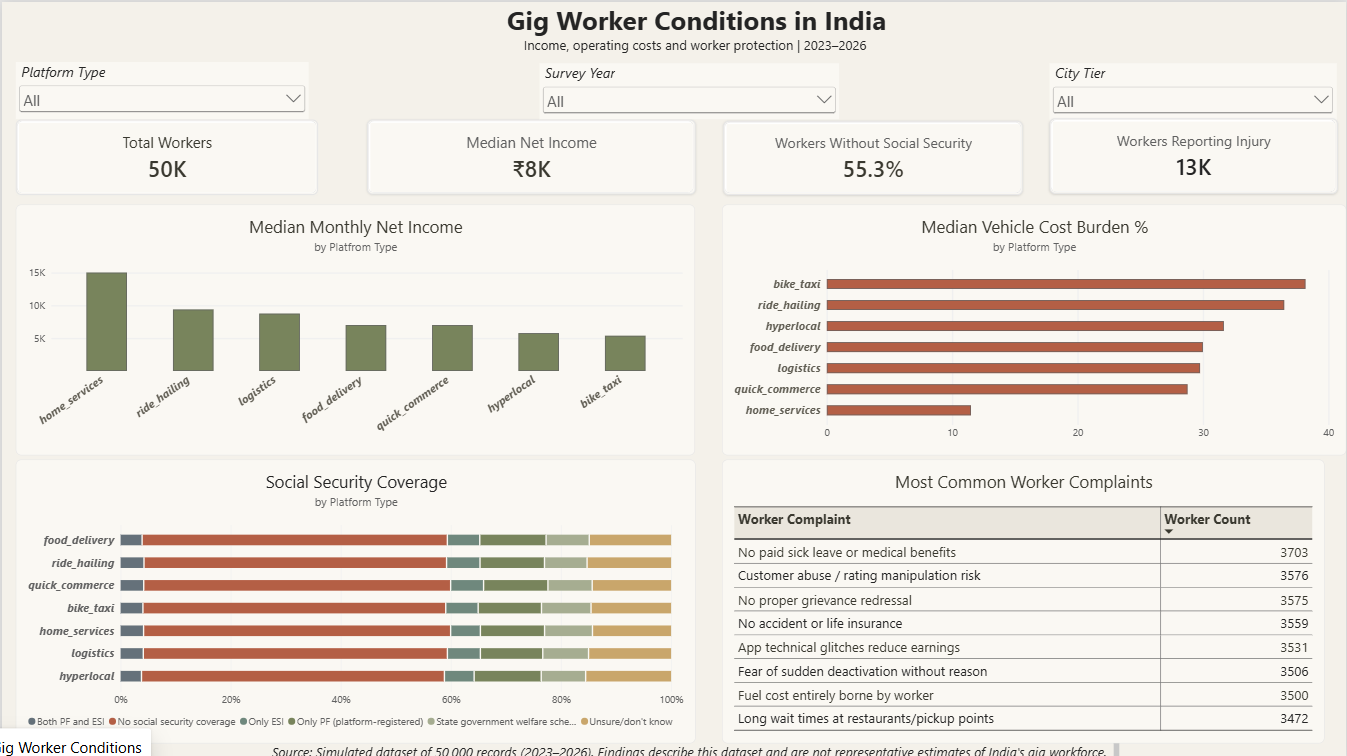

This screenshot's page, from the dashboard's own definition file:
{"tool":"powerbi","page":{"name":"Gig Worker Conditions","canvas":[1920,1080],"ordinal":0},"visuals":[{"type":"textbox","box":[642,0,698.8,71.5],"z":0},{"type":"textbox","box":[641.7,48.3,698.3,46.7],"z":1000},{"type":"cardVisual","fields":{"Data":["cleaned_gig_workers.Total Workers"]},"box":[20,168,432,108],"z":2000},{"type":"cardVisual","fields":{"Data":["cleaned_gig_workers.Median Net Income"]},"box":[521.4,167.9,469.6,107.1],"z":3000},{"type":"cardVisual","fields":{"Data":["cleaned_gig_workers.Workers Without Social Security"]},"box":[1030.4,169.6,428.3,106.7],"z":4000},{"type":"clusteredColumnChart","title":"Median Monthly Net Income","fields":{"Category":["cleaned_gig_workers.platform_type"],"Y":["Median(cleaned_gig_workers.monthly_net_income_inr)"]},"box":[20,290,970,358],"z":5000},{"type":"clusteredBarChart","title":"Median Vehicle Cost Burden % ","fields":{"Category":["cleaned_gig_workers.platform_type"],"Y":["cleaned_gig_workers.Median Vehicle Cost Burden %"]},"box":[1028,290,891.7,358.3],"z":6000},{"type":"tableEx","title":"Most Common Worker Complaints","fields":{"Values":["cleaned_gig_workers.primary_complaint","CountNonNull(cleaned_gig_workers.worker_id)"]},"box":[1028.6,653.6,860.7,405.4],"z":7000},{"type":"slicer","fields":{"Values":["cleaned_gig_workers.platform_type"]},"box":[20,85,418.3,81.7],"z":8000},{"type":"slicer","fields":{"Values":["cleaned_gig_workers.survey_year"]},"box":[768.3,86.7,428.3,80],"z":9000},{"type":"slicer","title":"City Tier","fields":{"Values":["cleaned_gig_workers.city_tier"]},"box":[1496.7,86.7,410,81.7],"z":10000},{"type":"cardVisual","fields":{"Data":["cleaned_gig_workers.Workers Reporting Injury"]},"box":[1496.7,166.7,411.7,108.3],"z":11000},{"type":"hundredPercentStackedBarChart","title":"Social Security Coverage ","fields":{"Category":["cleaned_gig_workers.platform_type"],"Series":["cleaned_gig_workers.social_security_coverage"],"Y":["CountNonNull(cleaned_gig_workers.worker_id)"]},"box":[19.6,653.6,971.4,405.4],"z":11001},{"type":"textbox","box":[385.7,1058.9,1210.7,21.4],"z":11002}]}

Visuals, with their boxes on the page's 1920x1080 design canvas (x1, y1, x2, y2). These are canvas units, not pixel positions in the 1347x756 screenshot, which may show the page scaled, cropped or inside an application window:
textbox: BBox(642, 0, 1341, 72)
textbox: BBox(642, 48, 1340, 95)
cardVisual - cleaned_gig_workers.Total Workers: BBox(20, 168, 452, 276)
cardVisual - cleaned_gig_workers.Median Net Income: BBox(521, 168, 991, 275)
cardVisual - cleaned_gig_workers.Workers Without Social Security: BBox(1030, 170, 1459, 276)
"Median Monthly Net Income" clusteredColumnChart: BBox(20, 290, 990, 648)
"Median Vehicle Cost Burden % " clusteredBarChart: BBox(1028, 290, 1920, 648)
"Most Common Worker Complaints" tableEx: BBox(1029, 654, 1889, 1059)
slicer - cleaned_gig_workers.platform_type: BBox(20, 85, 438, 167)
slicer - cleaned_gig_workers.survey_year: BBox(768, 87, 1197, 167)
"City Tier" slicer: BBox(1497, 87, 1907, 168)
cardVisual - cleaned_gig_workers.Workers Reporting Injury: BBox(1497, 167, 1908, 275)
"Social Security Coverage " hundredPercentStackedBarChart: BBox(20, 654, 991, 1059)
textbox: BBox(386, 1059, 1596, 1080)
